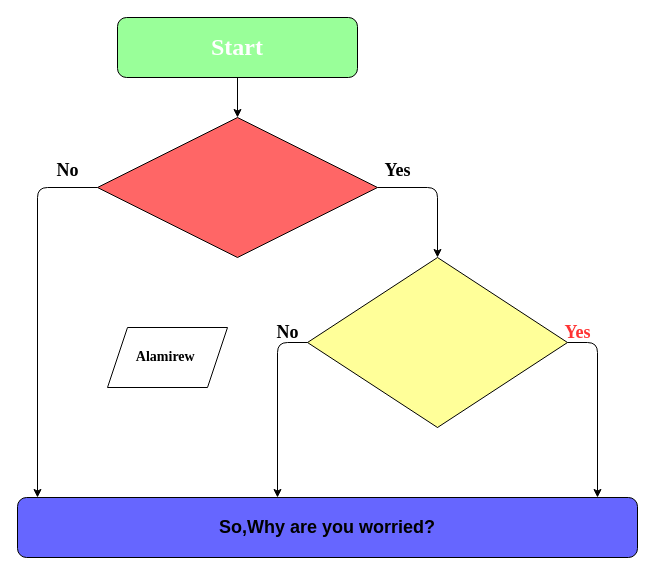
Image size: 655x575. Some labels were removed from this diagram. The shapes that lost their labels are listed below. From the top down, each one's centre as x and y in pixels, then its label:
pixel 237 187: Do You Have a Problem on Your Life?
pixel 437 342: Did you do everything you could to solve the problem?
